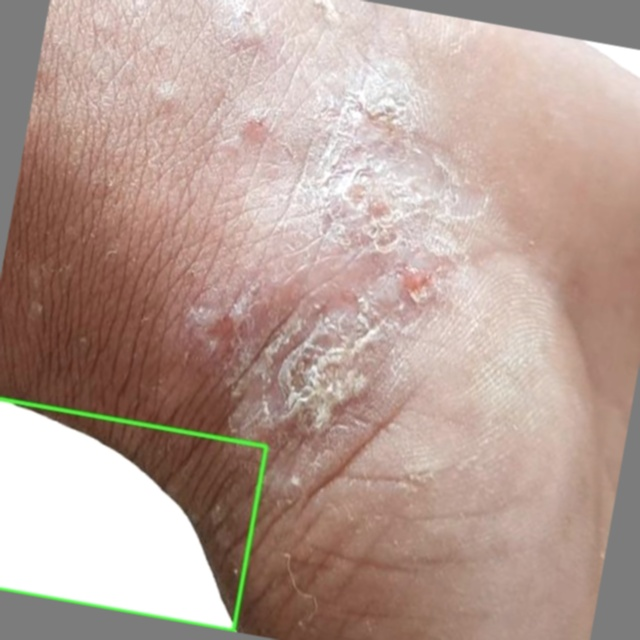Scabies: (0, 399, 266, 630)
